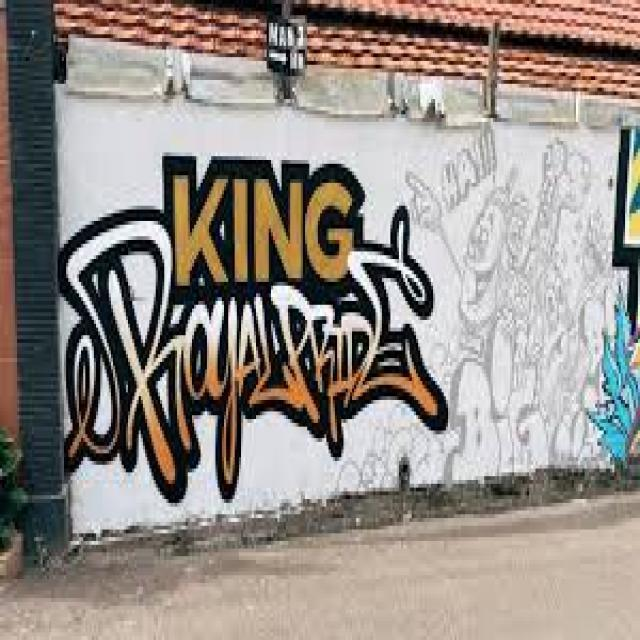-: (58, 172, 447, 488), (407, 134, 612, 466), (587, 288, 639, 460), (620, 123, 640, 255)
